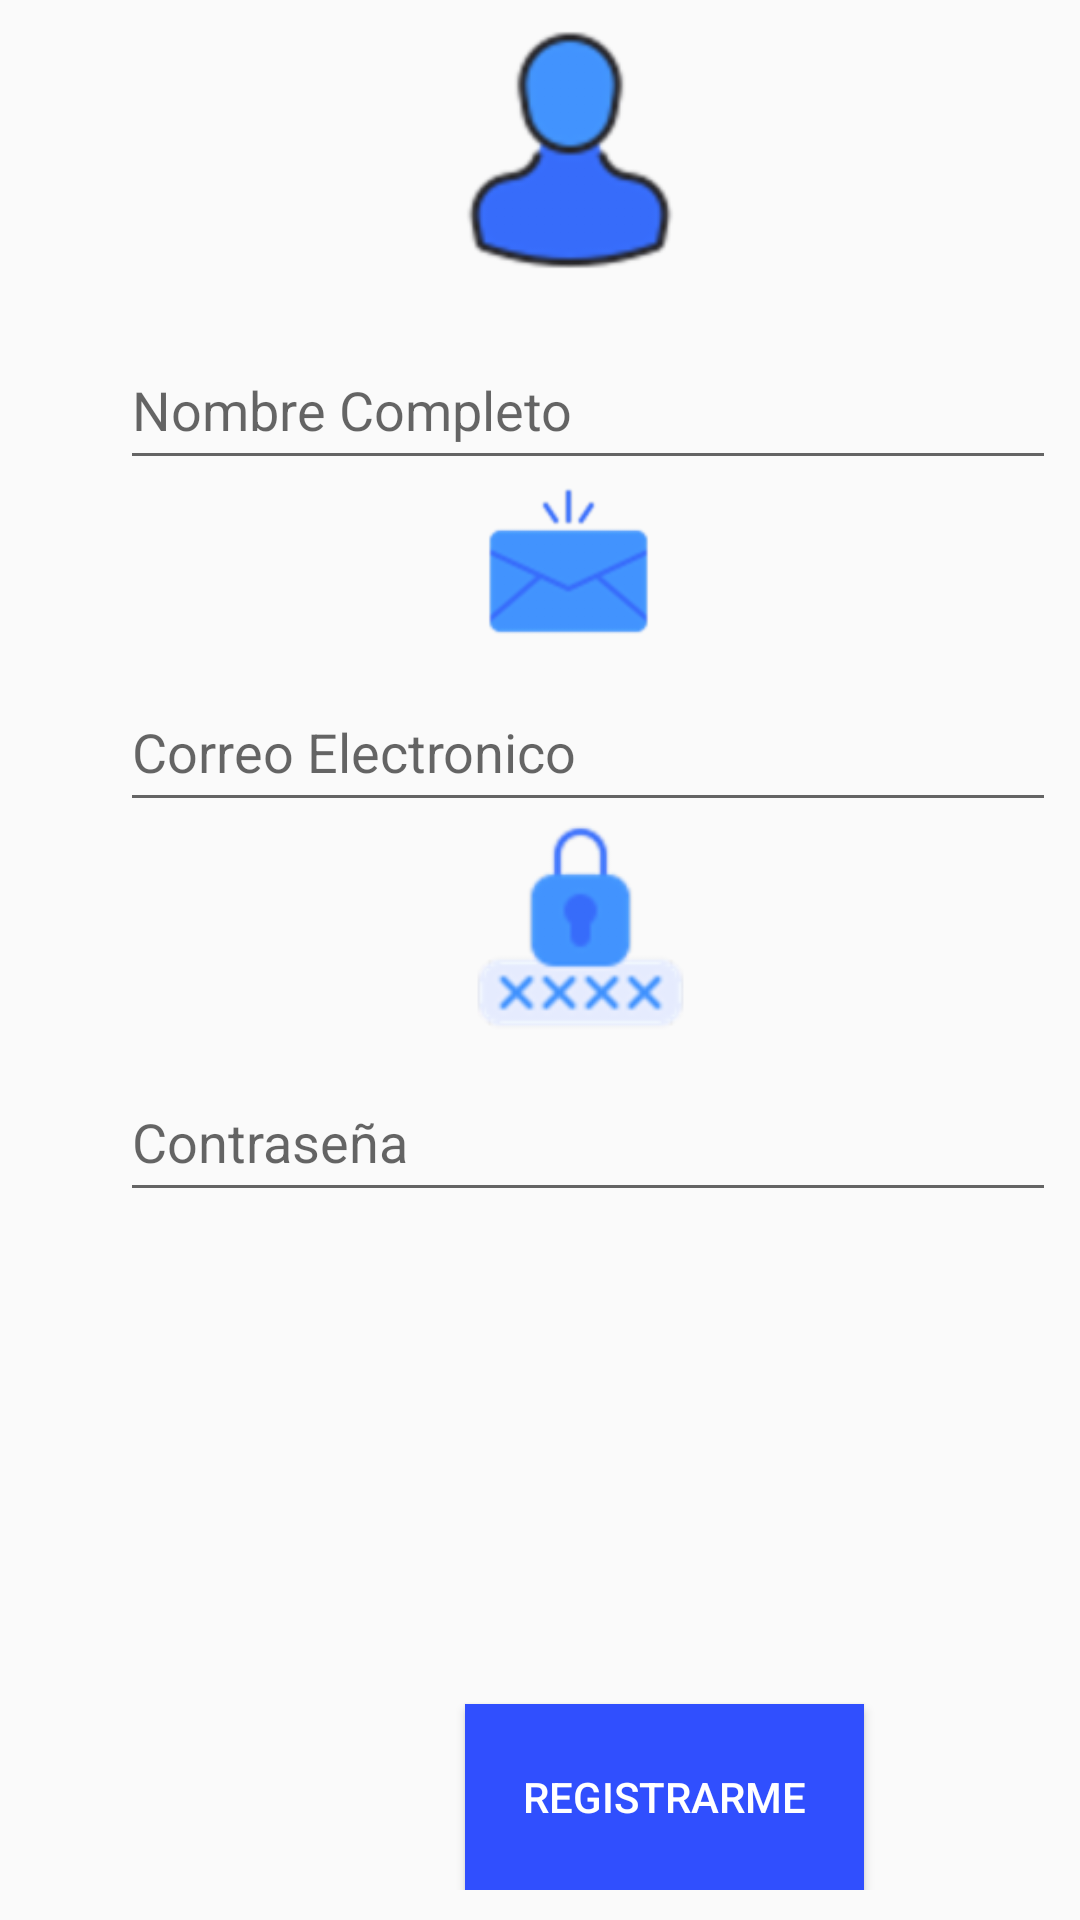

Where to tap for icons on this 1080px×1920px app screen, as point (x, y):
mail: point (568, 561)
password: point (580, 919)
user: point (570, 150)
